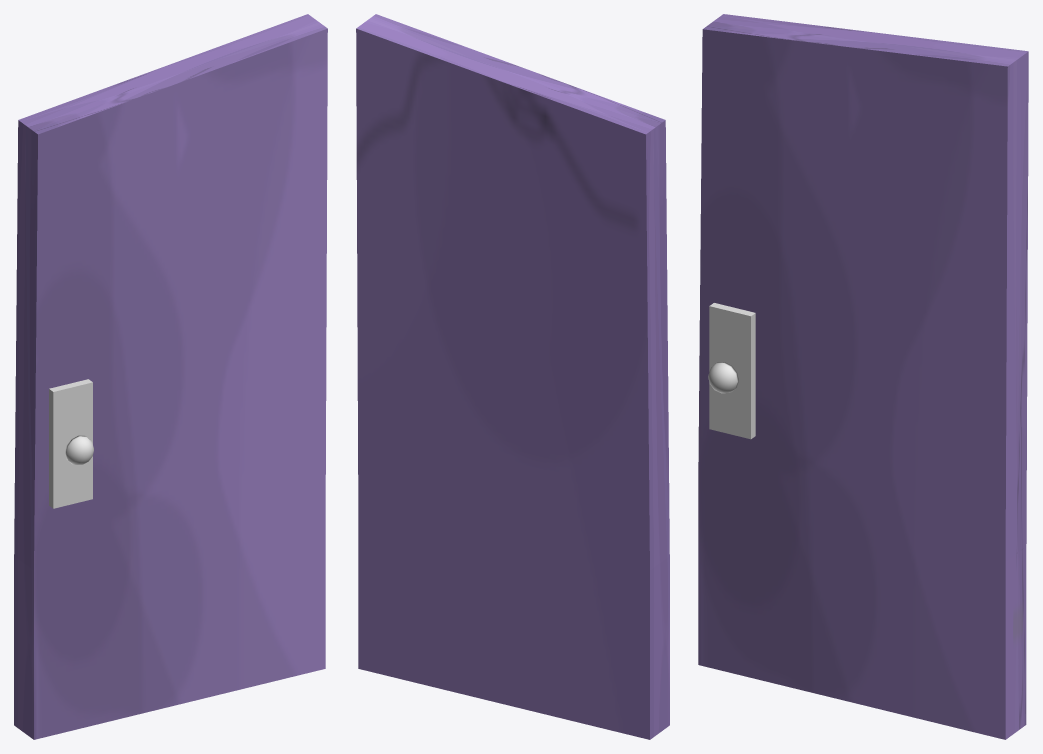
File: puerta.fbx
3 renders of one model, left to right at view 1: azimuth 30°, elevation 25°; view 2: azimuth 150°, elevation 25°; view 3: azimuth 330°, elevation 25°, orthographic. The views are drawn at different scales.
Parts seen in each view (by area): view 1: Cube.008; view 2: Cube.008; view 3: Cube.008.
Part boxes in pixels (<box>): Cube.008: <box>14,14,327,739</box>; Cube.008: <box>356,14,669,739</box>; Cube.008: <box>698,14,1028,739</box>.
Bounding box in the file's own units: 336 × 699 × 73.9.
2 materials, 1 textured.
